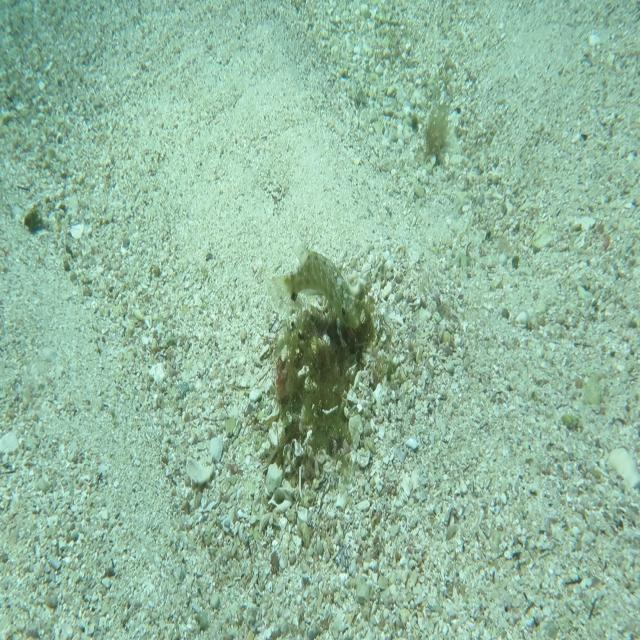MAN: (266, 242, 360, 331)
core_nest: (328, 299, 372, 341)
nest: (270, 272, 400, 480)
vegetation: (420, 99, 452, 162), (22, 207, 42, 232)
